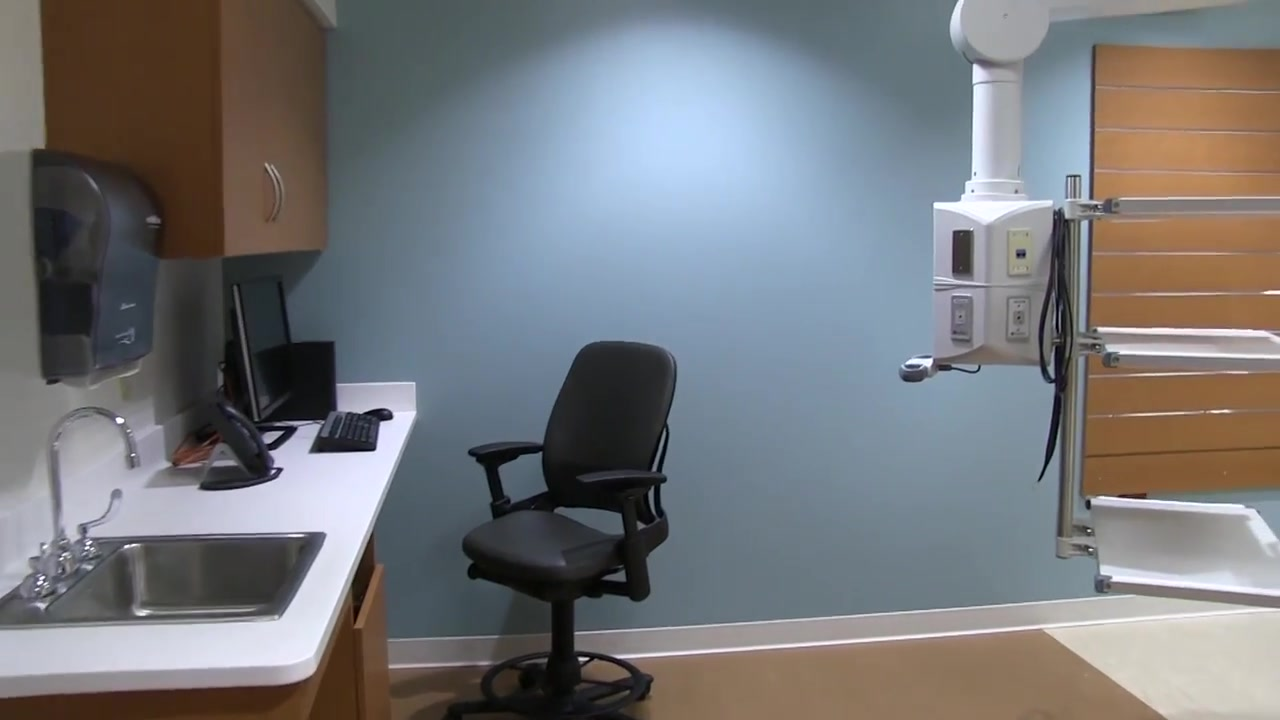cabinet: (42, 1, 330, 254)
chair: (446, 341, 676, 720)
computer: (231, 276, 299, 421)
countertop: (1, 408, 414, 693)
dispenser: (30, 147, 163, 391)
faucet: (20, 406, 141, 595)
handle: (263, 160, 288, 222)
keyboard: (315, 409, 380, 451)
mouse: (361, 408, 393, 421)
sink: (1, 531, 328, 631)
